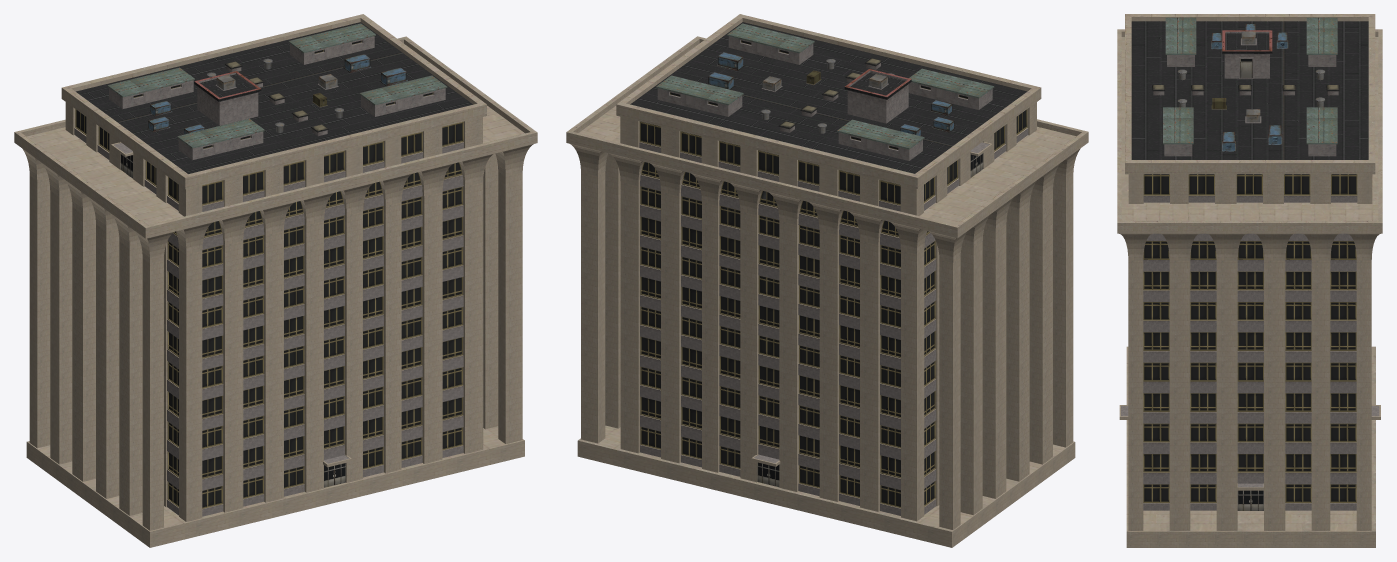
Rendered from glb-16.glb.
3 renders of one model, left to right at view 1: azimuth 30°, elevation 25°; view 2: azimuth 150°, elevation 25°; view 3: azimuth 270°, elevation 25°, orthographic.
Visible parts, largest first — view 1: Cube_0, Cube.001_1, Cube.004_3, Cube.006_4, Cube.012_7, Cube.002_2; view 2: Cube_0, Cube.001_1, Cube.003_6, Cube.006_4, Cube.012_7, Cube.002_2; view 3: Cube_0, Cube.001_1, Cube.018_5, Cube.006_4.
Boxes of the visible parts, x1,y1,x2,y2 form: Cube_0: (14, 36, 537, 547); Cube.001_1: (61, 14, 486, 216); Cube.004_3: (202, 186, 462, 508); Cube.006_4: (167, 175, 463, 516); Cube.012_7: (167, 241, 178, 507); Cube.002_2: (173, 162, 462, 237); Cube_0: (566, 36, 1088, 547); Cube.001_1: (616, 14, 1041, 215); Cube.003_6: (640, 186, 900, 508); Cube.006_4: (640, 174, 936, 515); Cube.012_7: (924, 240, 935, 506); Cube.002_2: (641, 162, 929, 237); Cube_0: (1117, 29, 1382, 547); Cube.001_1: (1125, 14, 1375, 203); Cube.018_5: (1143, 241, 1356, 510); Cube.006_4: (1143, 233, 1356, 510).
Bounding box in the file's own units: 48.27 × 46.09 × 27.99.
3 materials, 3 textured.
